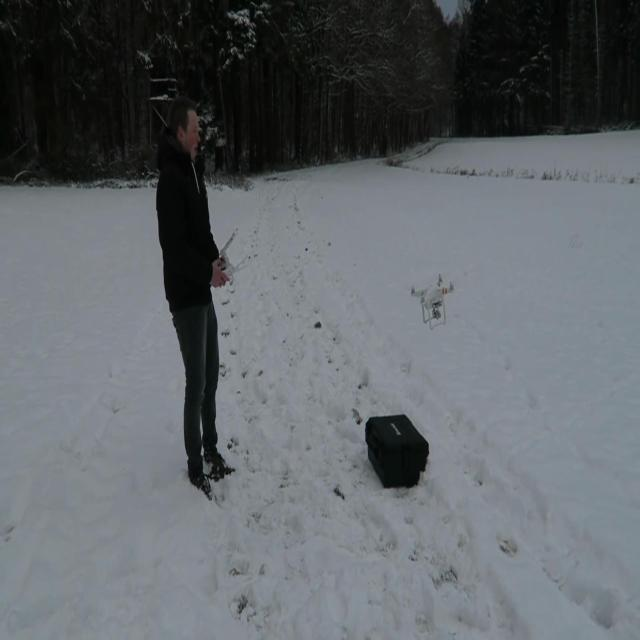drone: (409, 270, 456, 329)
